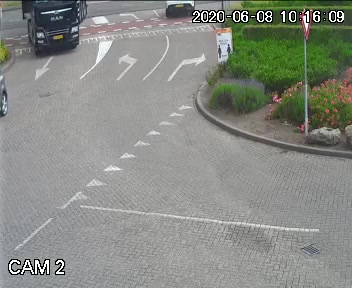car: (13, 0, 99, 58), (159, 0, 197, 22)
